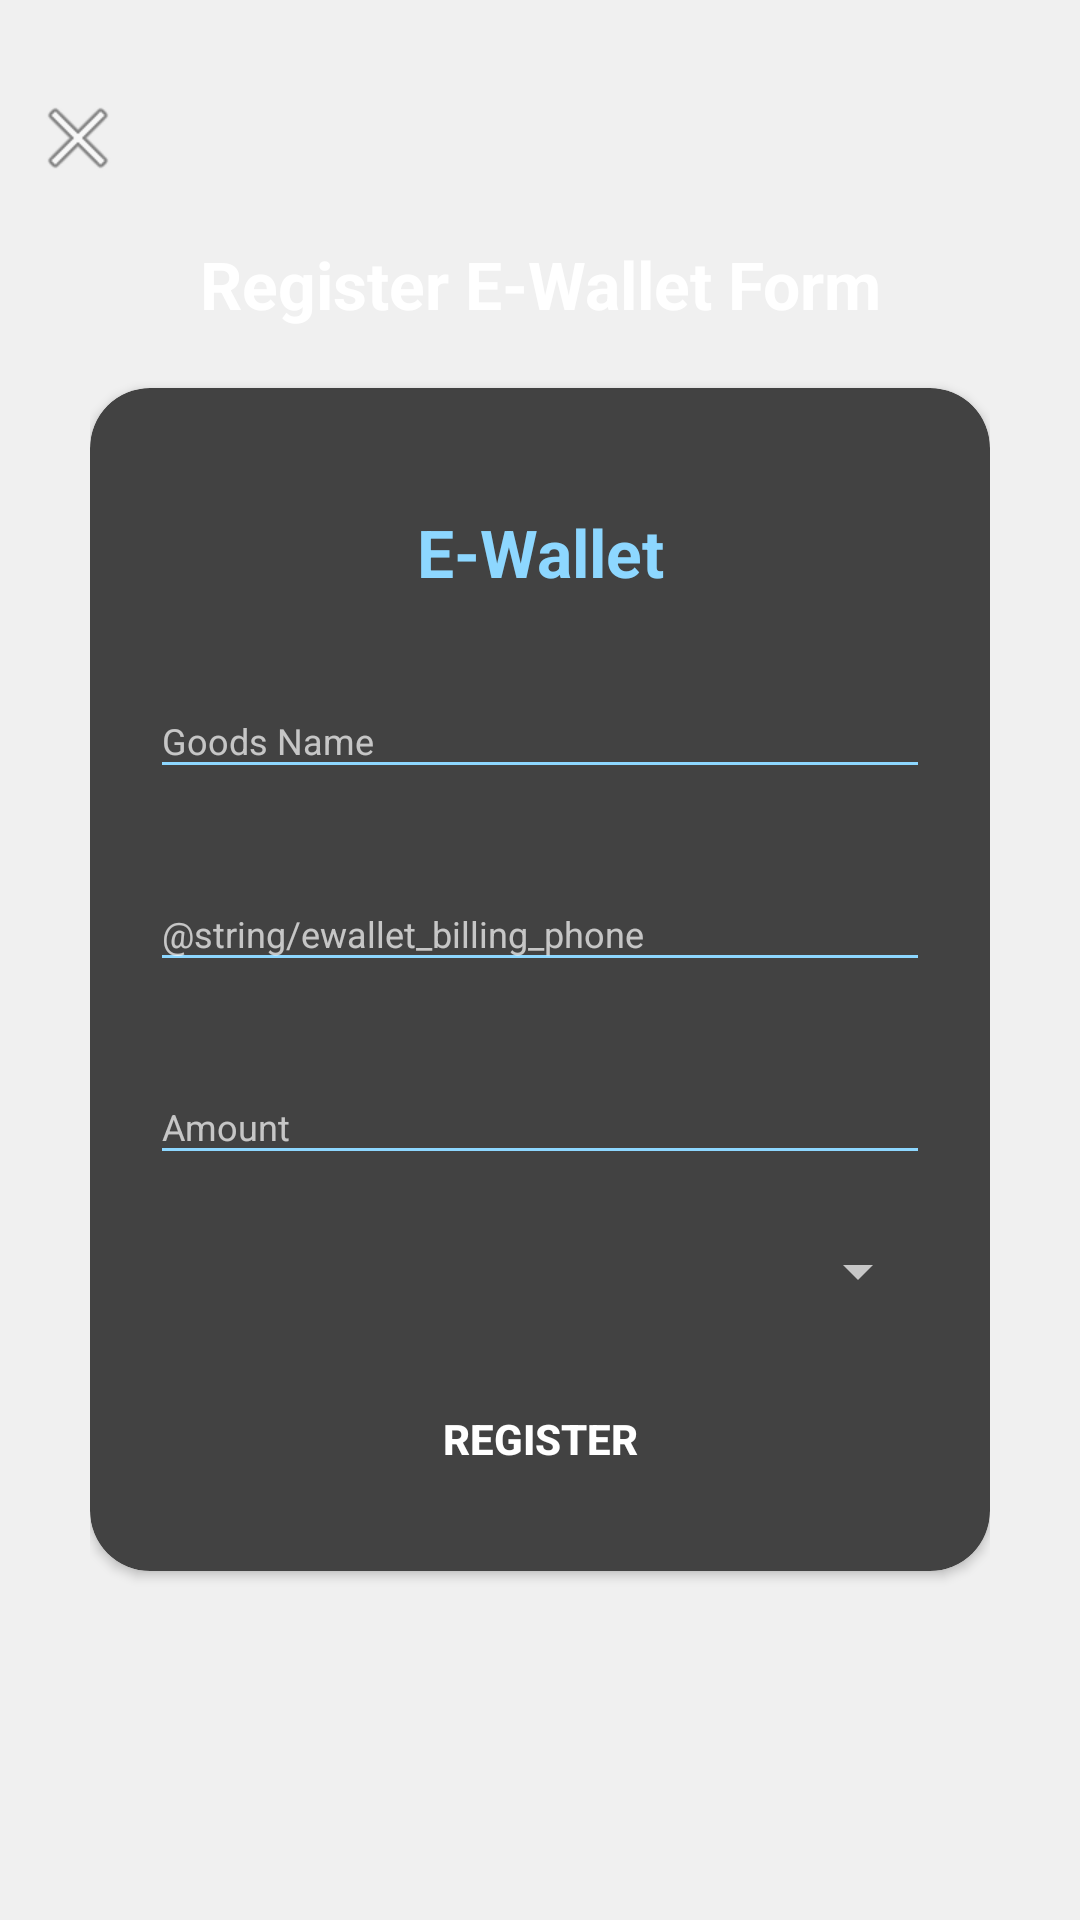

Where icons sit on this 1080w x 1920h app screen, as region(x1, y1, x2, y2):
close clear cancel: region(48, 108, 108, 168)
